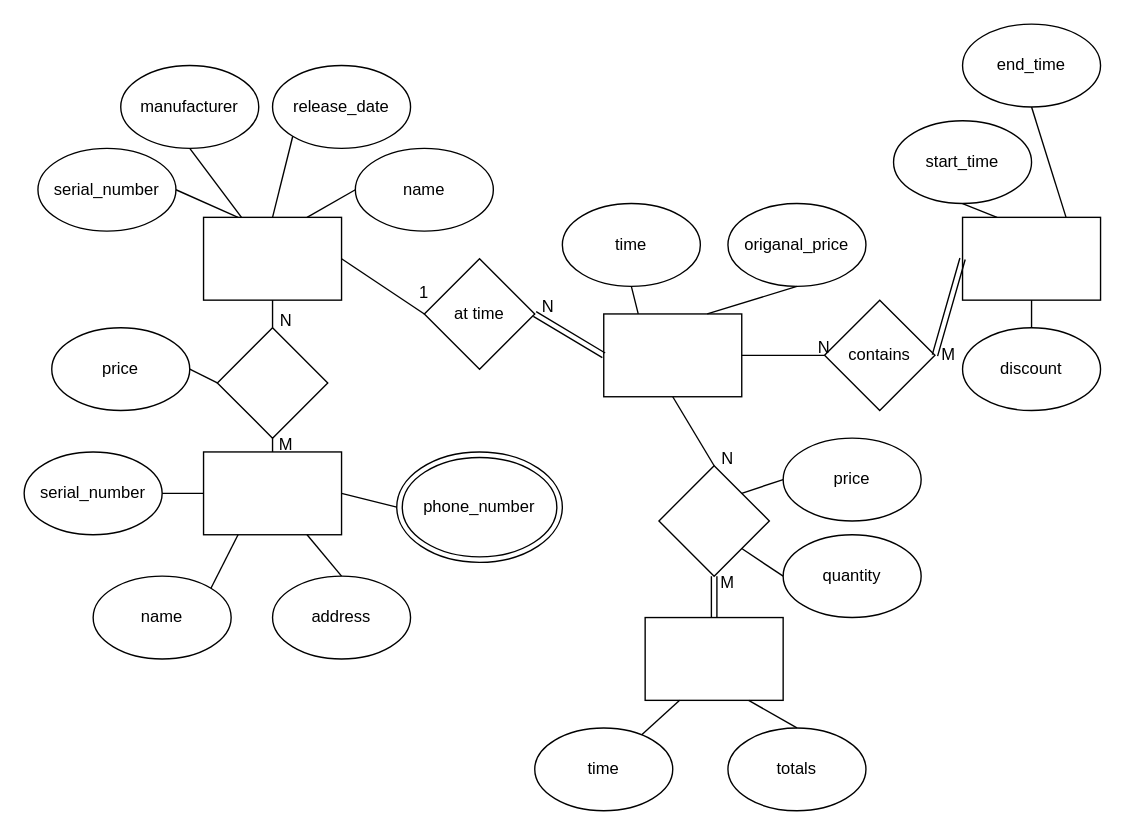
Some shapes in this 1125 by 835 pixel diagram are drawn without their labels. Here are the shapes that lost their labels. From the top down, the centre of each, then its label:
the point at 272,258: Product
the point at 1031,258: Promotion
the point at 672,355: Retail Product
the point at 272,382: buy from supplier
the point at 272,493: Supplier
the point at 713,520: sell to consumer
the point at 713,658: Order
